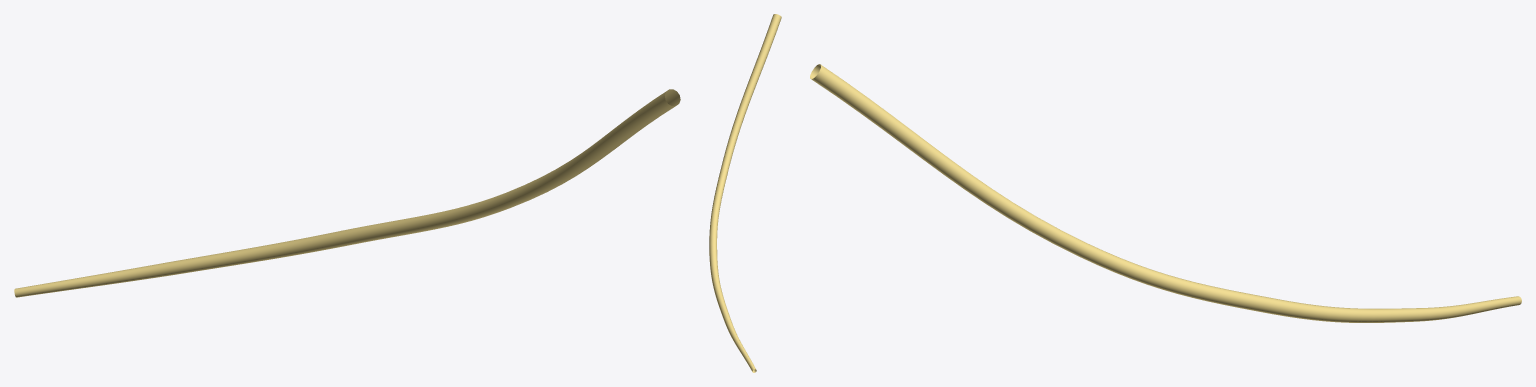
The picture shows the model from 3 angles, left to right: view 1: azimuth 30°, elevation 25°; view 2: azimuth 150°, elevation 25°; view 3: azimuth 270°, elevation 25°; orthographic projection. The views are drawn at different scales.
Parts seen in each view (by area): view 1: ZA_160e42440d35bbad; view 2: ZA_160e42440d35bbad; view 3: ZA_160e42440d35bbad.
Part boxes in pixels (left/top/right/bottom): ZA_160e42440d35bbad: left=14, top=89, right=680, bottom=297; ZA_160e42440d35bbad: left=709, top=14, right=781, bottom=372; ZA_160e42440d35bbad: left=810, top=64, right=1521, bottom=322.
Bounding box in the file's own units: 0.0322 × 0.0378 × 0.0628.
